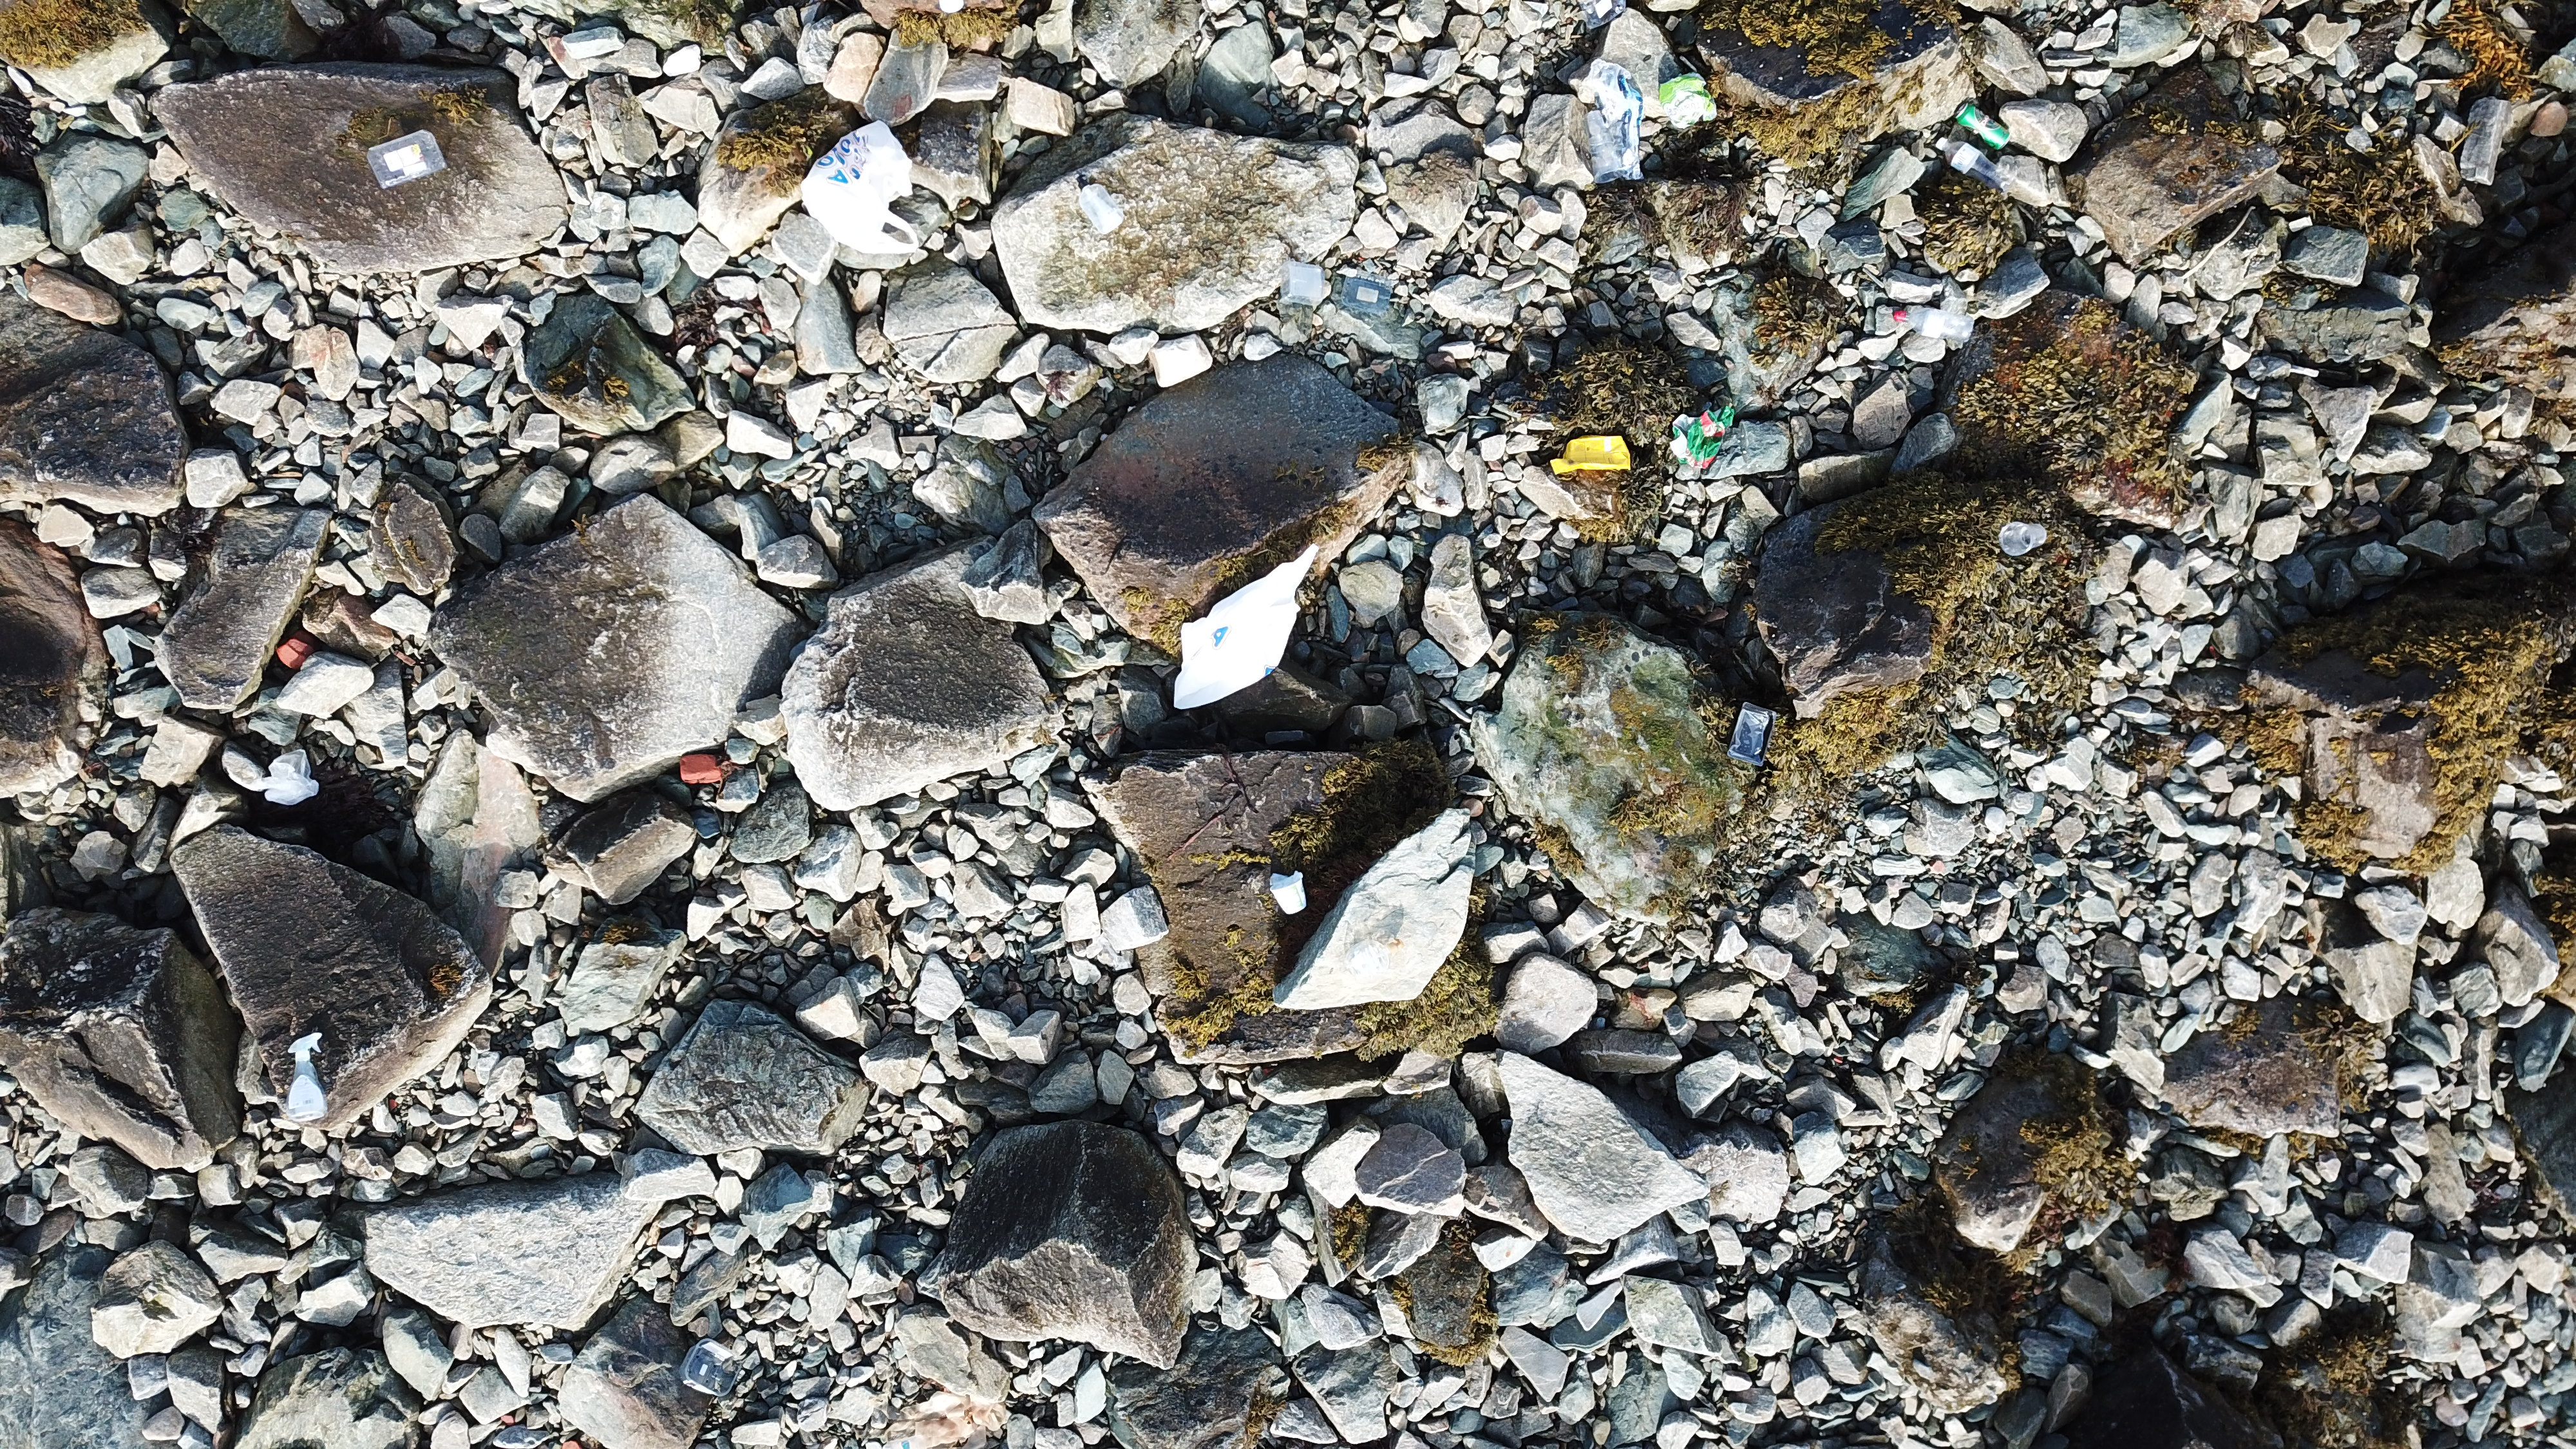Can: (1953, 104, 2010, 147)
Plastic: (1169, 541, 1320, 711), (800, 119, 924, 255), (1580, 57, 1644, 180), (1665, 403, 1746, 471), (372, 131, 448, 195), (285, 1031, 327, 1125), (257, 748, 322, 807), (1550, 435, 1631, 478), (1580, 110, 1626, 184), (683, 1343, 743, 1399), (1660, 73, 1716, 131), (1725, 701, 1776, 764), (1076, 182, 1129, 237), (1276, 260, 1325, 308), (1339, 272, 1394, 313), (1999, 522, 2049, 557), (1270, 872, 1309, 916), (1576, 0, 1631, 27)
PlasticBottle: (1934, 138, 2013, 196), (1890, 306, 1974, 343)
